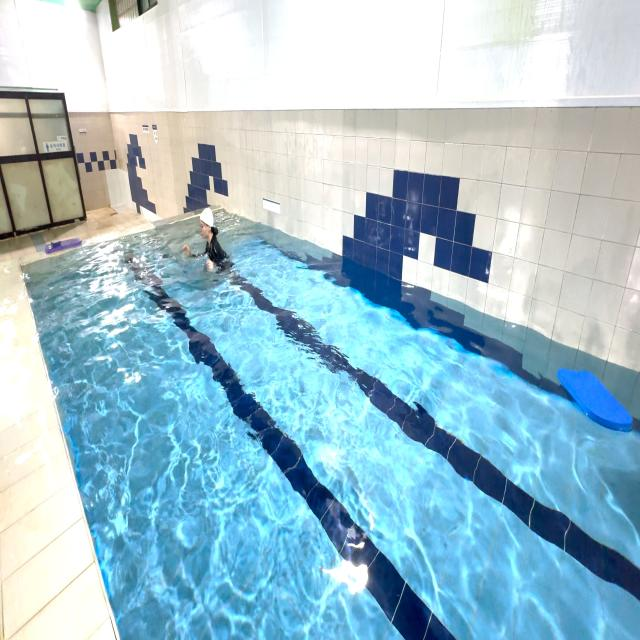Swimming: (173, 192, 251, 303)
